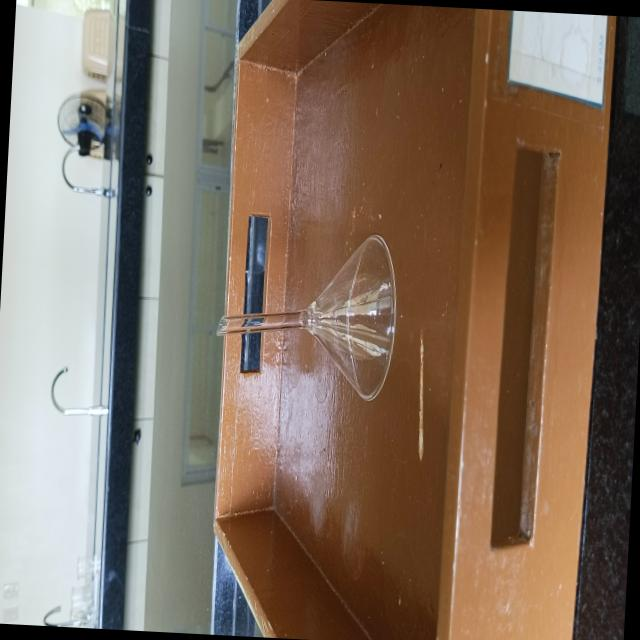funnel: (208, 216, 403, 406)
